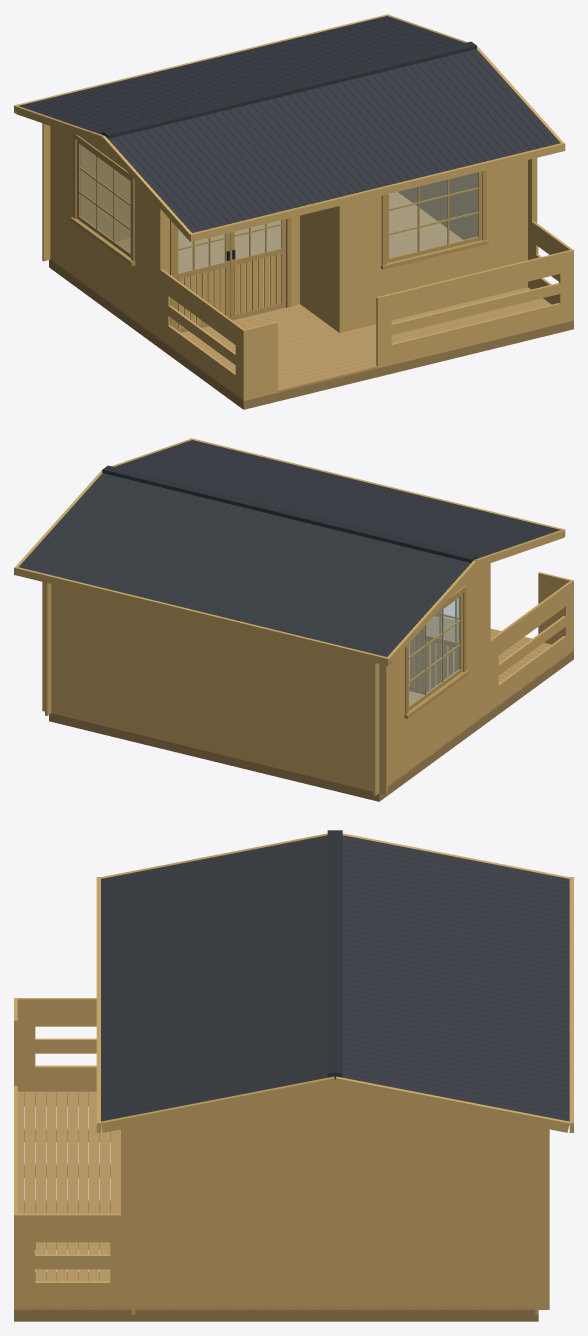
The model's file is глория_5_5_1_34_мм_встроенная_терраса.glb.
The picture shows the model from 3 angles, top to bottom: view 1: azimuth 30°, elevation 25°; view 2: azimuth 150°, elevation 25°; view 3: azimuth 270°, elevation 25°; orthographic projection. The views are drawn at different scales.
Parts seen in each view (by area): view 1: roof, walls, floor, deck, object 47, house, object 60, object 15, object 33, object 55, object 41; view 2: roof, walls, house, object 60, deck, object 15, floor, object 68; view 3: roof, walls, deck, house, floor.
Part boxes in pixels (box(x1,y1,x2,y2)): roof: box(14, 14, 565, 241); walls: box(42, 123, 573, 400); floor: box(50, 192, 462, 368); deck: box(200, 287, 551, 400); object 47: box(389, 172, 477, 258); house: box(49, 259, 573, 409); object 60: box(80, 144, 130, 252); object 15: box(178, 229, 224, 273); object 33: box(235, 220, 281, 259); object 55: box(381, 239, 488, 269); object 41: box(286, 218, 291, 307); roof: box(14, 438, 565, 665); walls: box(42, 563, 573, 795); house: box(49, 651, 573, 801); object 60: box(409, 598, 459, 705); deck: box(409, 616, 573, 679); object 15: box(426, 599, 458, 642); floor: box(387, 651, 530, 786); object 68: box(404, 670, 468, 718); roof: box(96, 830, 573, 1132); walls: box(14, 998, 549, 1314); deck: box(14, 1091, 131, 1309); house: box(14, 1094, 538, 1321); floor: box(135, 1307, 535, 1309).
Size of the model in its own units: 5.44 by 2.69 by 5.23.
